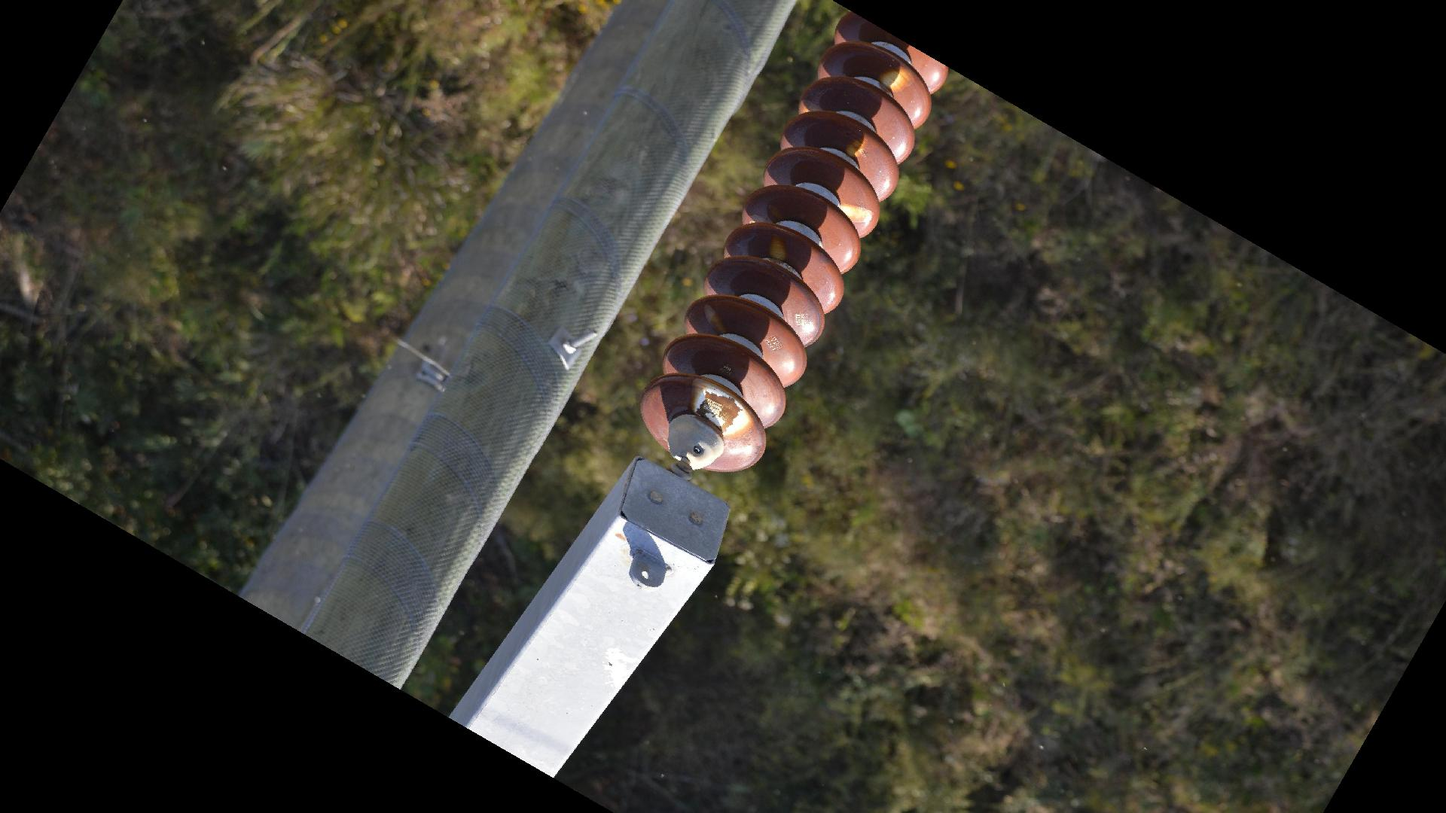insulator: (634, 11, 957, 478)
insulator_flashover: (691, 378, 750, 437), (877, 63, 916, 96), (837, 201, 875, 227), (702, 303, 730, 336), (844, 131, 870, 159), (767, 232, 789, 263)
